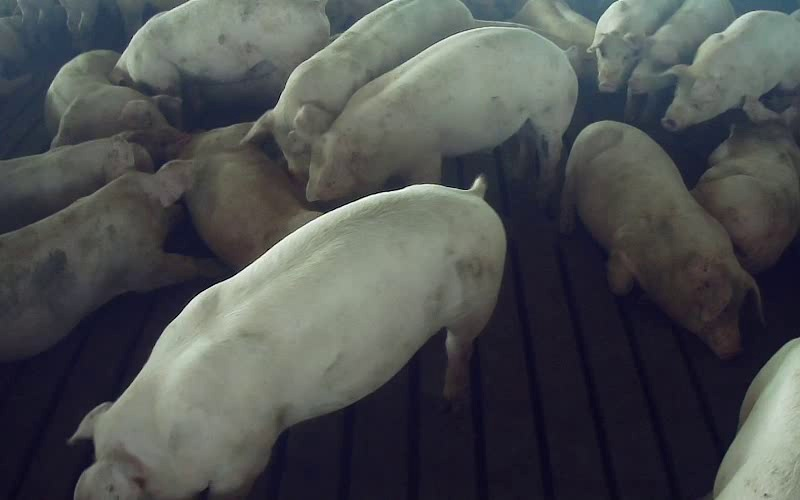pig: (71, 182, 505, 499), (307, 27, 577, 201), (561, 121, 759, 355), (0, 162, 224, 360), (178, 123, 319, 269), (117, 0, 329, 94), (691, 97, 799, 272), (662, 11, 799, 130), (0, 135, 152, 233), (45, 50, 179, 146)
